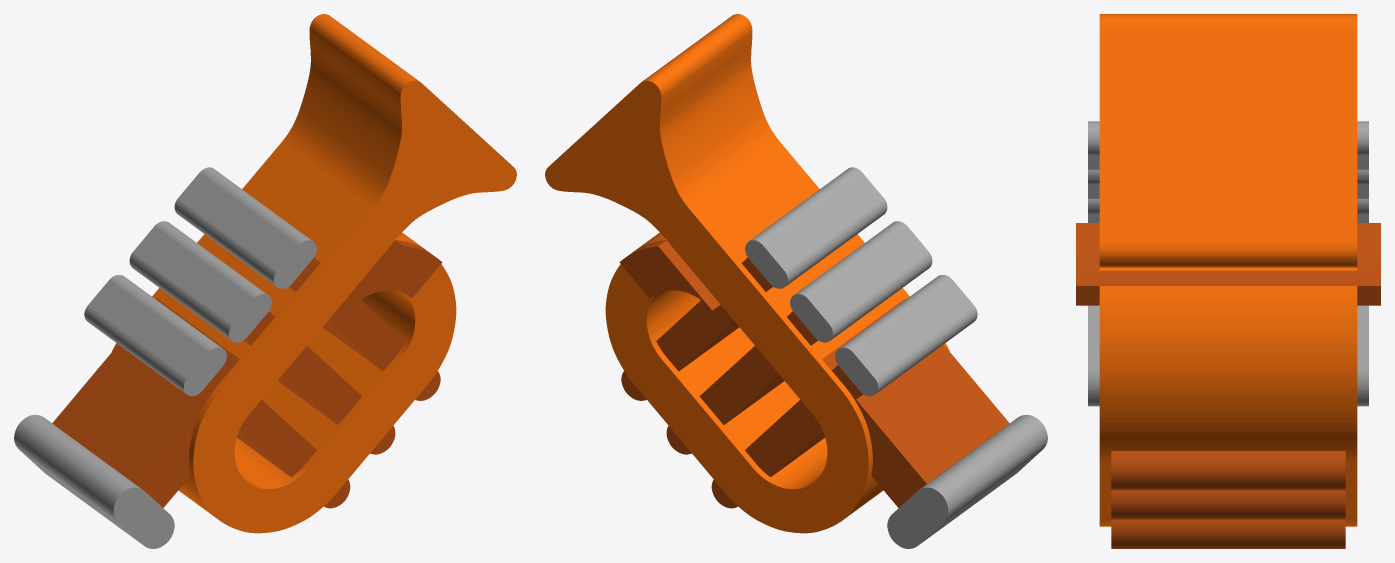
3 renders of one model, left to right at view 1: azimuth 30°, elevation 25°; view 2: azimuth 150°, elevation 25°; view 3: azimuth 270°, elevation 25°, orthographic. The views are drawn at different scales.
Visible parts, largest first — view 1: U+1F3BA_layer01_obj00, U+1F3BA_layer02_obj00, U+1F3BA_layer00_obj00, U+1F3BA_layer03_obj00; view 2: U+1F3BA_layer01_obj00, U+1F3BA_layer02_obj00, U+1F3BA_layer00_obj00, U+1F3BA_layer03_obj00; view 3: U+1F3BA_layer01_obj00, U+1F3BA_layer00_obj00, U+1F3BA_layer03_obj00, U+1F3BA_layer02_obj00.
Boxes of the visible parts, <box> form: U+1F3BA_layer01_obj00: <box>112,14,516,533</box>; U+1F3BA_layer02_obj00: <box>14,167,316,548</box>; U+1F3BA_layer00_obj00: <box>52,257,440,508</box>; U+1F3BA_layer03_obj00: <box>341,234,442,310</box>; U+1F3BA_layer01_obj00: <box>545,14,949,533</box>; U+1F3BA_layer02_obj00: <box>745,167,1047,548</box>; U+1F3BA_layer00_obj00: <box>621,257,1009,508</box>; U+1F3BA_layer03_obj00: <box>619,234,720,310</box>; U+1F3BA_layer01_obj00: <box>1099,14,1357,526</box>; U+1F3BA_layer00_obj00: <box>1111,451,1345,548</box>; U+1F3BA_layer03_obj00: <box>1076,223,1380,305</box>; U+1F3BA_layer02_obj00: <box>1088,121,1368,406</box>.
Size of the model in its own units: 0.5678 by 0.5556 by 0.26.
